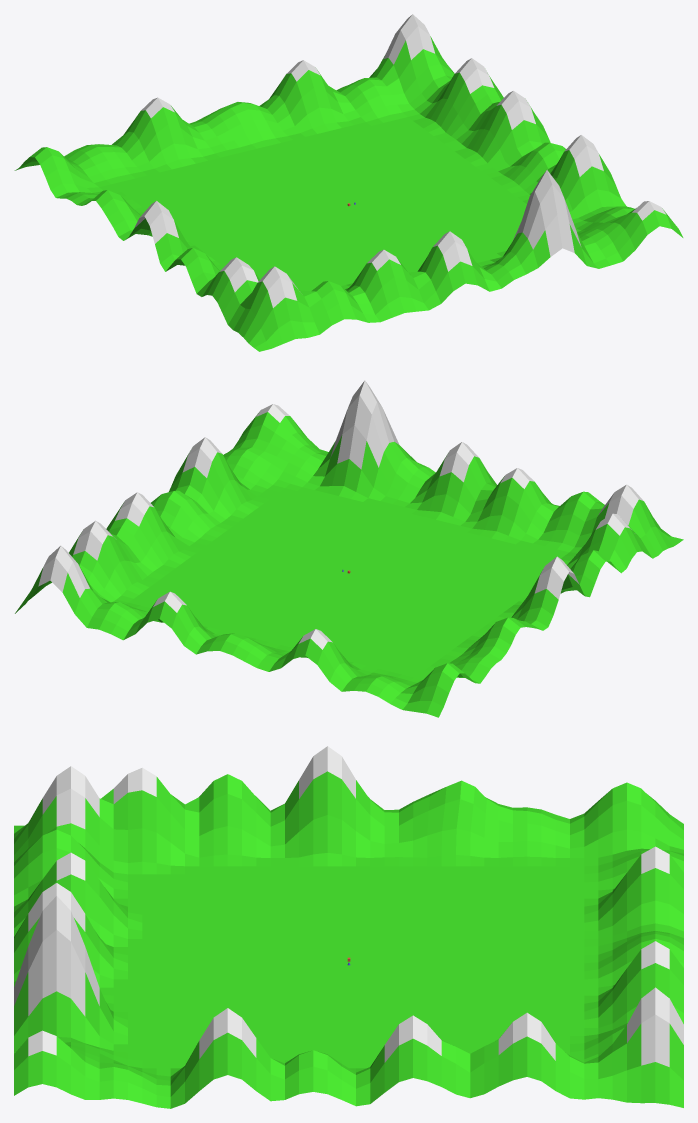
File: environment.glb
3 views of the same model, one above another, from view 1: azimuth 30°, elevation 25°; view 2: azimuth 150°, elevation 25°; view 3: azimuth 270°, elevation 25° (orthographic). The views are drawn at different scales.
Visible parts, largest first — view 1: Plane; view 2: Plane; view 3: Plane.
Boxes of the visible parts, box(x1,y1,x2,y2) form: Plane: box(14, 14, 683, 351); Plane: box(15, 380, 683, 717); Plane: box(14, 746, 683, 1108).
Size of the model in its own units: 449 by 97.86 by 449.
